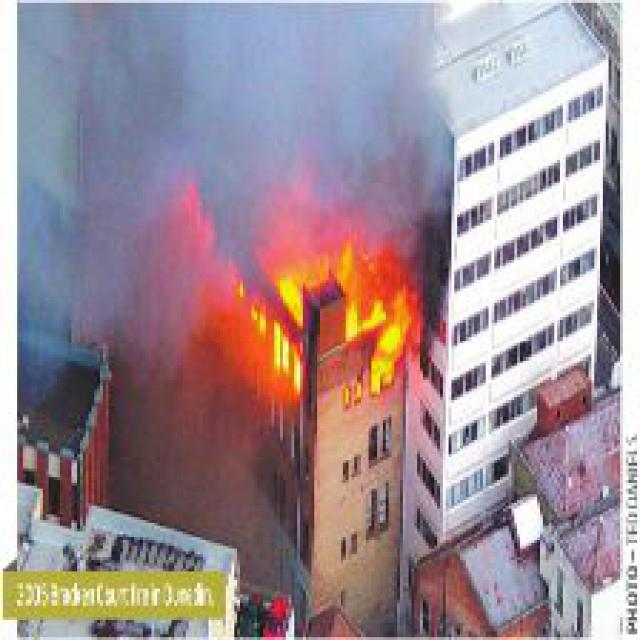fire: (237, 237, 423, 400)
